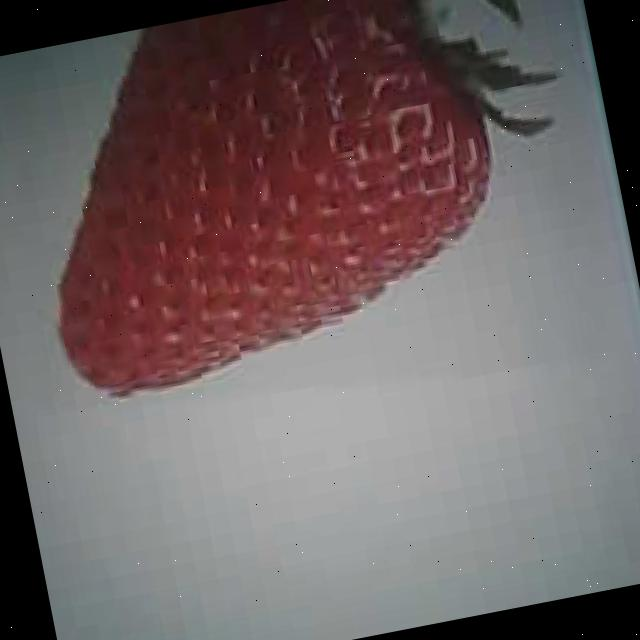strawberry: (7, 0, 524, 406)
